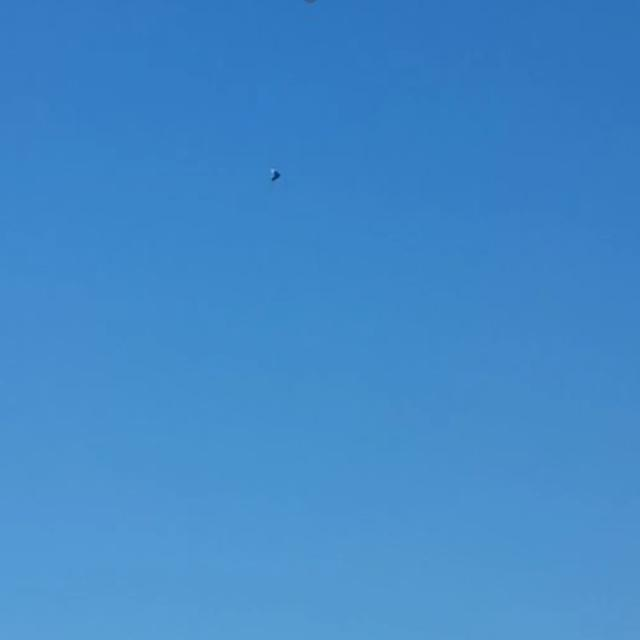iha: (275, 172, 278, 179)
